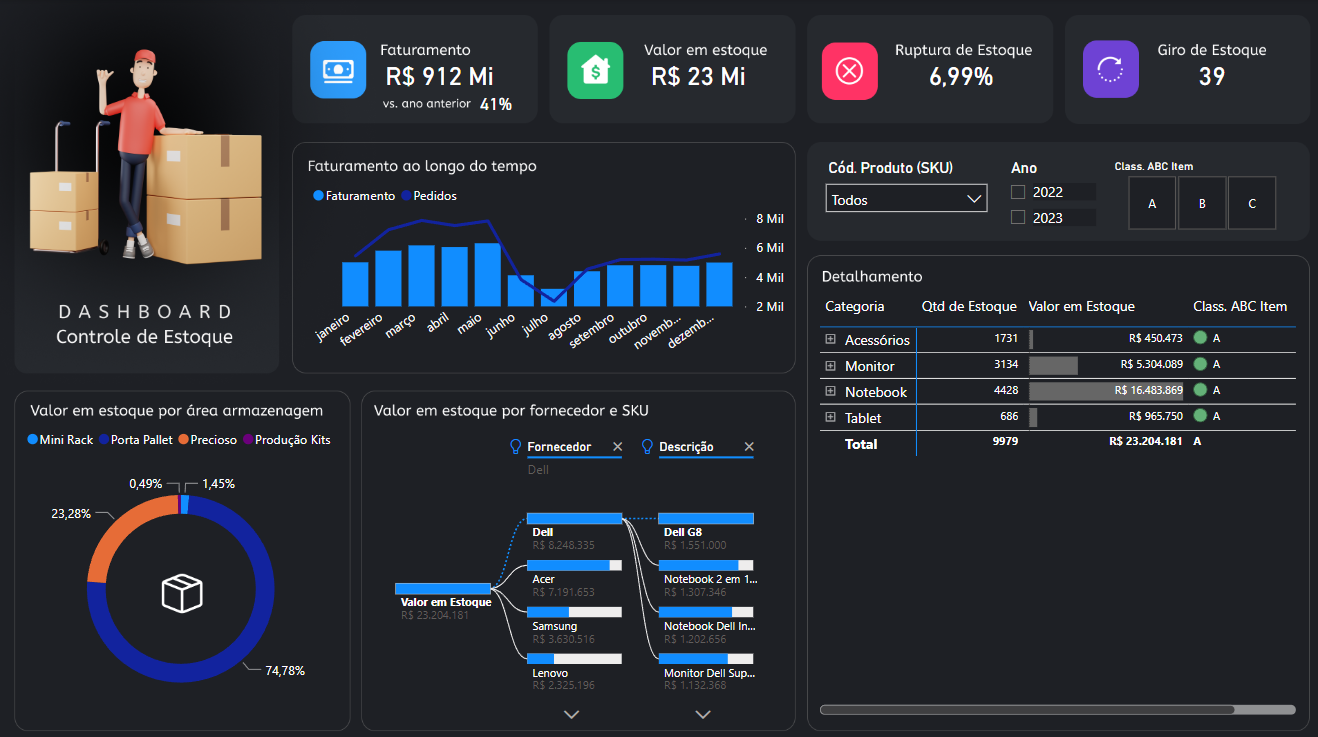

This screenshot's page, from the dashboard's own definition file:
{"tool":"powerbi","page":{"name":"Página 1","canvas":[1280,720],"ordinal":0},"visuals":[{"type":"card","fields":{"Values":["Estoque.Faturamento"]},"box":[351.9,41.3,144.2,65.4],"z":0},{"type":"card","fields":{"Values":["Estoque.Valor em Estoque"]},"box":[601.9,41.3,144.2,65.4],"z":1000},{"type":"card","fields":{"Values":["Medidas Explícitas.% Ruptura de Estoque"]},"box":[855.6,41.1,144.4,65.6],"z":2000},{"type":"card","fields":{"Values":["Medidas Explícitas.Giro de Estoque"]},"box":[1098.1,41.3,144.2,65.4],"z":3000},{"type":"lineStackedColumnComboChart","fields":{"Category":["dCalendario.Data.Variation.Hierarquia de datas.Ano","dCalendario.Data.Variation.Hierarquia de datas.Trimestre","dCalendario.Data.Variation.Hierarquia de datas.Mês","dCalendario.Data.Variation.Hierarquia de datas.Dia"],"Y":["Medidas Explícitas.Faturamento"],"Y2":["CountNonNull(Pedidos.Nº Ordem de Venda (OV))"]},"box":[296.2,170.2,465.4,181.7],"z":4000},{"type":"donutChart","fields":{"Y":["Medidas Explícitas.Valor em Estoque"],"Series":["Estoque.Descrição"]},"box":[14.4,405.8,320.2,300],"z":5000},{"type":"decompositionTreeVisual","fields":{"Analyze":["Medidas Explícitas.Valor em Estoque"],"ExplainBy":["Produtos.Fornecedor","Produtos.Descrição"]},"box":[352.6,406.4,409,300],"z":6000},{"type":"pivotTable","fields":{"Rows":["Produtos.Categoria","Produtos.Descrição"],"Values":["Sum(Estoque.Qtd. de Estoque Atual)","Medidas Explícitas.Valor em Estoque","Min(Produtos.Class. ABC Item)"]},"box":[786.7,278.9,468.9,416.7],"z":7000},{"type":"slicer","fields":{"Values":["Pedidos.Cód. Produto (SKU)"]},"box":[786.3,149.5,176.1,79.6],"z":8000},{"type":"slicer","fields":{"Values":["dCalendario.Data.Variation.Hierarquia de datas.Ano"]},"box":[962.4,149.5,100.1,79.6],"z":9000},{"type":"slicer","fields":{"Values":["Produtos.Class. ABC Item"]},"box":[1062.5,149.5,193,79.6],"z":10000},{"type":"card","fields":{"Values":["Medidas Explícitas.% YoY"]},"box":[449.8,86.8,57.9,30.2],"z":11000}]}

Visuals, with their boxes in screenshot pixels (x1, y1, x2, y2), scaled from the page's 1280x720 canvas onto the 1318x737 screenshot:
card - Estoque.Faturamento: left=362, top=42, right=511, bottom=109
card - Estoque.Valor em Estoque: left=620, top=42, right=768, bottom=109
card - Medidas Explícitas.% Ruptura de Estoque: left=881, top=42, right=1030, bottom=109
card - Medidas Explícitas.Giro de Estoque: left=1131, top=42, right=1279, bottom=109
lineStackedColumnComboChart - dCalendario.Data.Variation.Hierarquia de datas.Ano x dCalendario.Data.Variation.Hierarquia de datas.Trimestre: left=305, top=174, right=784, bottom=360
donutChart - Medidas Explícitas.Valor em Estoque x Estoque.Descrição: left=15, top=415, right=345, bottom=722
decompositionTreeVisual - Medidas Explícitas.Valor em Estoque x Produtos.Fornecedor: left=363, top=416, right=784, bottom=723
pivotTable - Produtos.Categoria x Produtos.Descrição: left=810, top=285, right=1293, bottom=712
slicer - Pedidos.Cód. Produto (SKU): left=810, top=153, right=991, bottom=235
slicer - dCalendario.Data.Variation.Hierarquia de datas.Ano: left=991, top=153, right=1094, bottom=235
slicer - Produtos.Class. ABC Item: left=1094, top=153, right=1293, bottom=235
card - Medidas Explícitas.% YoY: left=463, top=89, right=523, bottom=120
